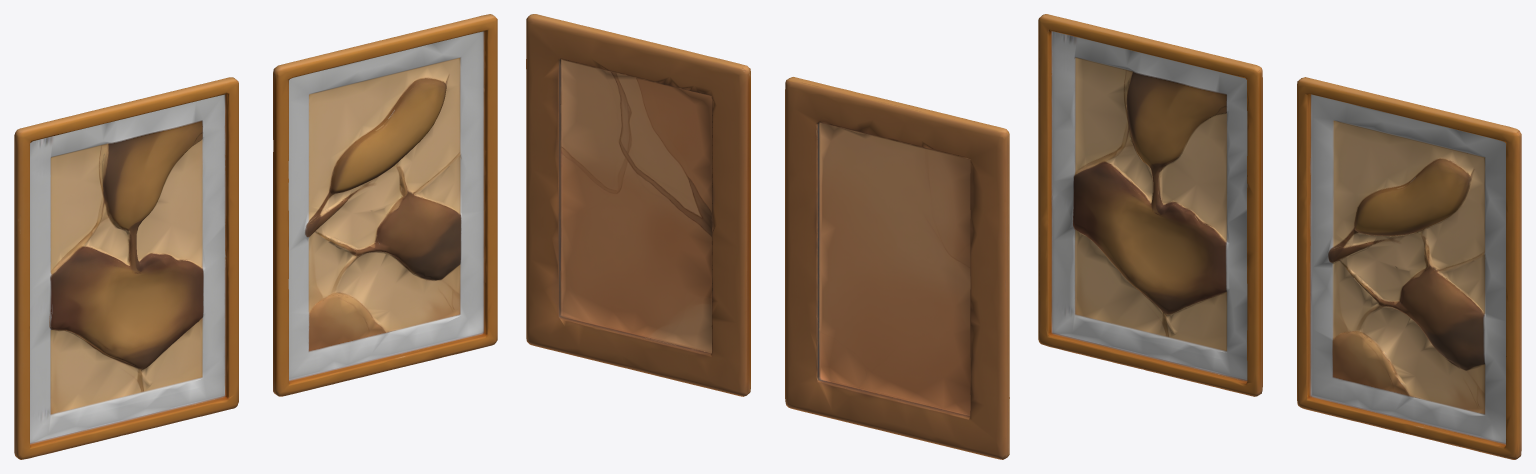
The model's file is tablo.fbx.
3 views of the same model, side by side, from view 1: azimuth 30°, elevation 25°; view 2: azimuth 150°, elevation 25°; view 3: azimuth 330°, elevation 25° (orthographic).
Parts seen in each view (by area): view 1: Mesh_0; view 2: Mesh_0; view 3: Mesh_0.
Boxes of the visible parts, left/top/right/bottom form: Mesh_0: left=14, top=14, right=497, bottom=459; Mesh_0: left=526, top=14, right=1009, bottom=459; Mesh_0: left=1038, top=14, right=1521, bottom=459.
Size of the model in its own units: 191 by 125 by 6.42.
Materials: 1 (1 with a texture image).
